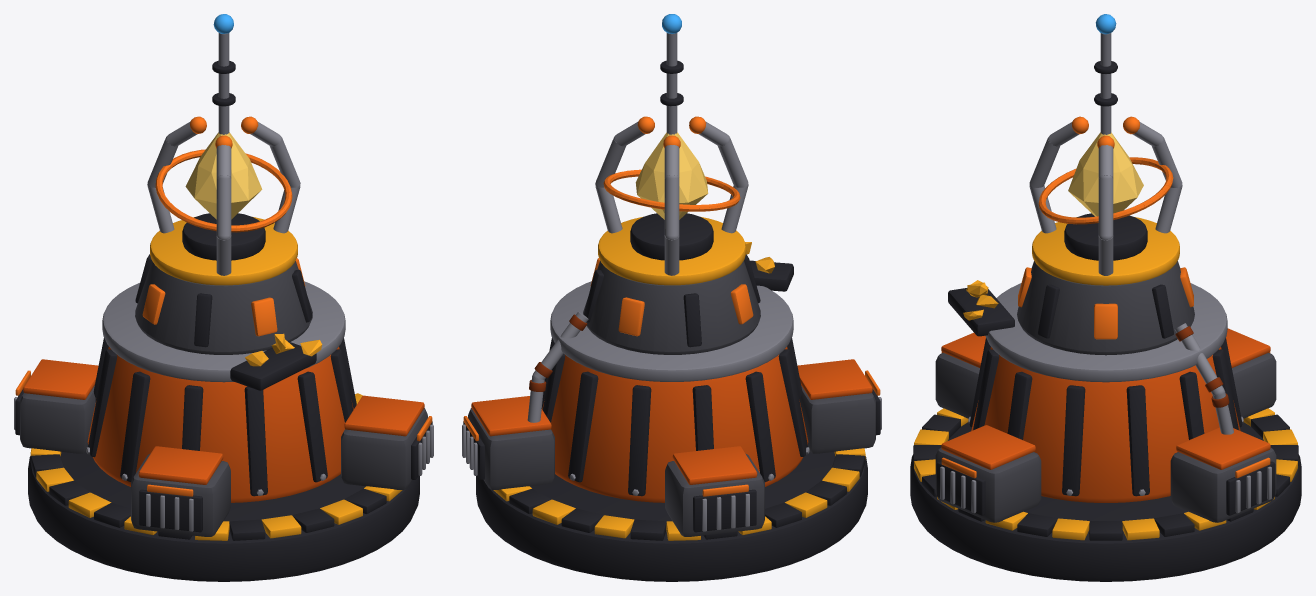
File: Collector.obj
3 views of the same model, side by side, from view 1: azimuth 30°, elevation 25°; view 2: azimuth 150°, elevation 25°; view 3: azimuth 270°, elevation 25° (orthographic).
Visible parts, largest first — view 1: Collector; view 2: Collector; view 3: Collector.
Boxes of the visible parts, x1,y1,x2,y2 form: Collector: [14, 14, 433, 581]; Collector: [462, 14, 881, 581]; Collector: [910, 14, 1301, 581].
Bounding box in the file's own units: 1.32 × 1.81 × 1.32.
